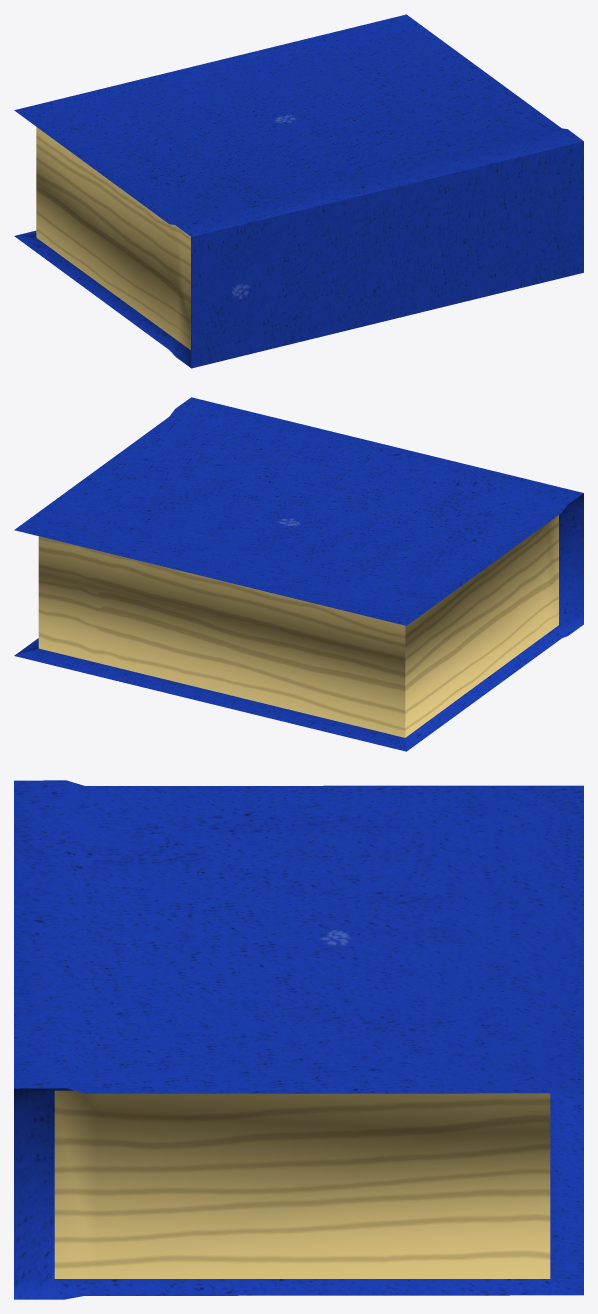
The model's file is BlueBook.fbx.
3 renders of one model, top to bottom at view 1: azimuth 30°, elevation 25°; view 2: azimuth 150°, elevation 25°; view 3: azimuth 270°, elevation 25°, orthographic. The views are drawn at different scales.
Parts seen in each view (by area): view 1: Book; view 2: Book; view 3: Book.
Part boxes in pixels (x1,y1,x2,y2): Book: (14, 14, 583, 368); Book: (14, 397, 583, 751); Book: (14, 780, 583, 1299).
Size of the model in its own units: 155 by 49.57 by 121.
